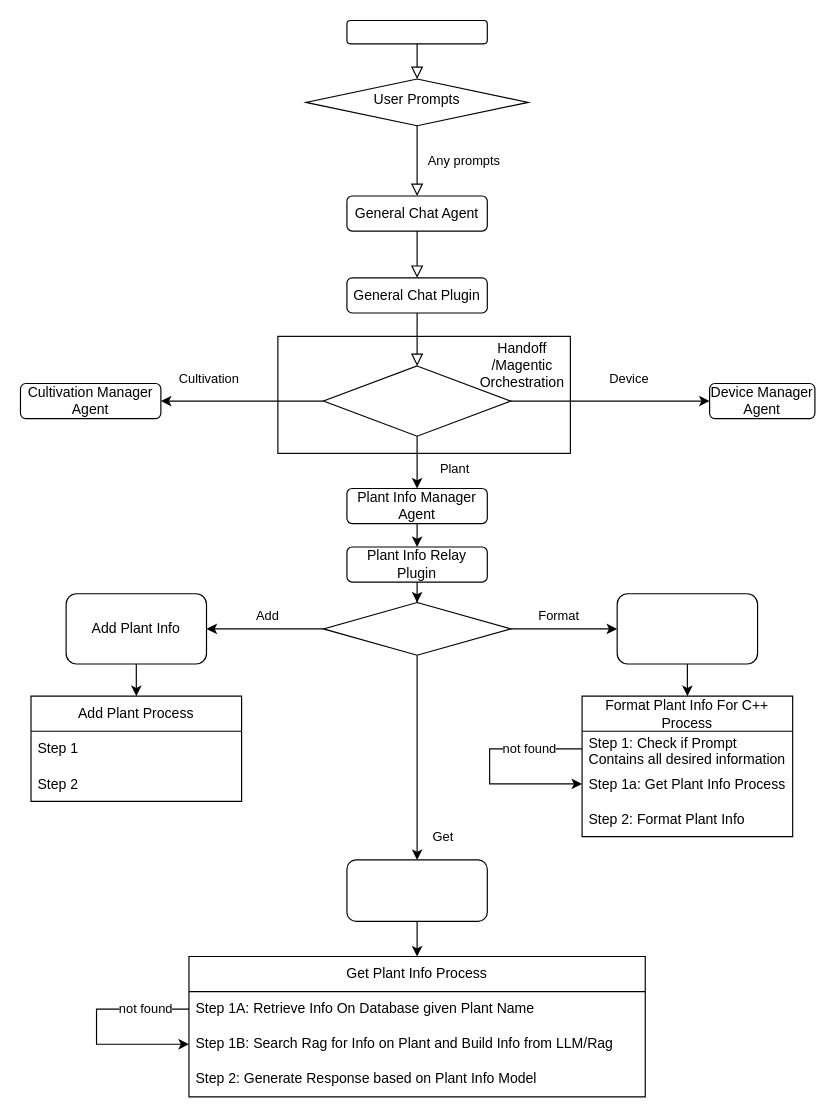
This 835x1117 diagram has some shape labels left out. Each missing label, with the box of its shape:
Context/Subject of Prompt: (322, 365, 511, 436)
Format Plant Info For C++ Constant: (616, 593, 758, 664)
Get General Plant Info: (346, 859, 487, 921)
Prompt Requests: (322, 601, 511, 655)
User: (346, 19, 487, 44)
